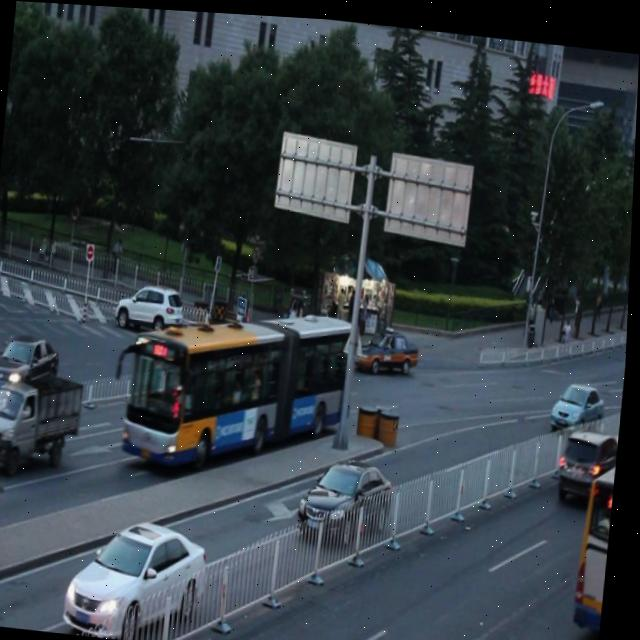bus: (0, 378, 88, 480)
car: (68, 507, 214, 634), (303, 453, 399, 538), (559, 413, 624, 490), (0, 329, 67, 395), (356, 320, 423, 376), (119, 281, 187, 332), (552, 370, 609, 425)
van: (125, 297, 359, 479), (579, 409, 624, 634)
